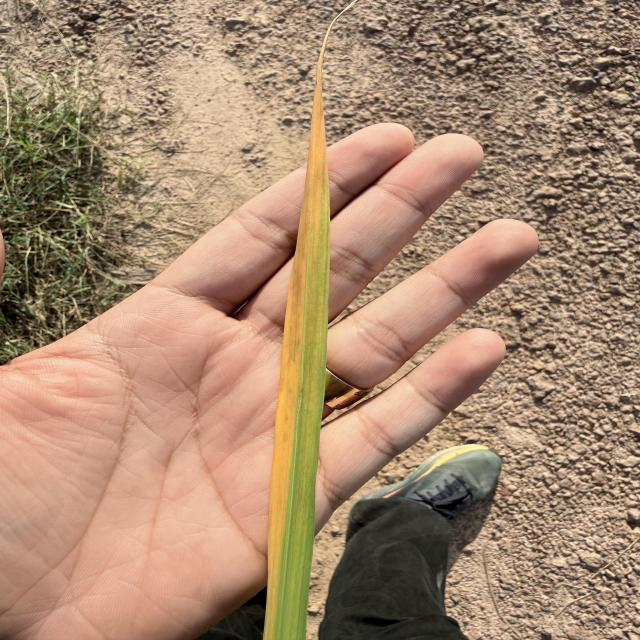Chay bia la: (260, 0, 360, 640)
